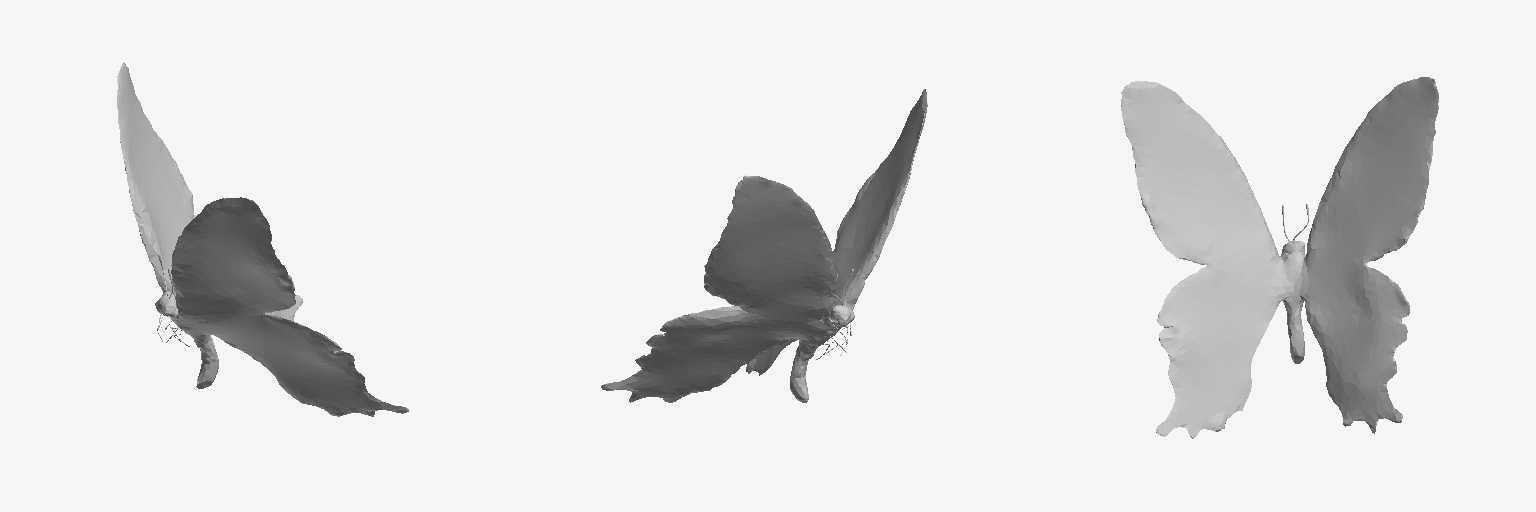
Rendered from Schaus0422.obj.
3 renders of one model, left to right at view 1: azimuth 30°, elevation 25°; view 2: azimuth 150°, elevation 25°; view 3: azimuth 270°, elevation 25°, orthographic.
Parts seen in each view (by area): view 1: mmGroup0; view 2: mmGroup0; view 3: mmGroup0.
Boxes of the visible parts, <box> form: mmGroup0: <box>117,62,408,416</box>; mmGroup0: <box>601,89,927,402</box>; mmGroup0: <box>1121,77,1438,438</box>.
Size of the model in its own units: 10.51 by 14.19 by 13.59.